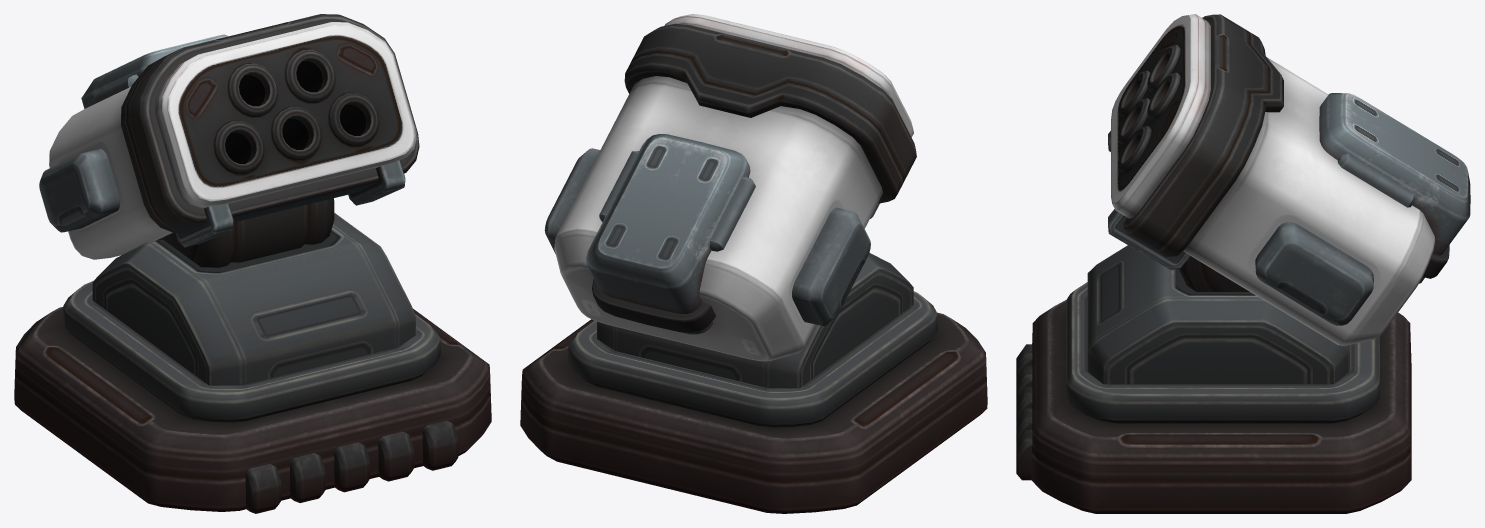
Rendered from lvl1.fbx.
The picture shows the model from 3 angles, left to right: view 1: azimuth 30°, elevation 25°; view 2: azimuth 150°, elevation 25°; view 3: azimuth 270°, elevation 25°; orthographic projection. The views are drawn at different scales.
Visible parts, largest first — view 1: lvl1_launcher_top, lvl1_launcher_mid, lvl1_launcher_bot; view 2: lvl1_launcher_top, lvl1_launcher_bot, lvl1_launcher_mid; view 3: lvl1_launcher_top, lvl1_launcher_bot, lvl1_launcher_mid.
Boxes of the visible parts, left/top/right/bottom form: lvl1_launcher_top: left=39, top=14, right=419, bottom=259; lvl1_launcher_mid: left=63, top=198, right=440, bottom=422; lvl1_launcher_bot: left=14, top=307, right=491, bottom=513; lvl1_launcher_top: left=544, top=14, right=916, bottom=361; lvl1_launcher_bot: left=520, top=312, right=987, bottom=513; lvl1_launcher_mid: left=568, top=253, right=937, bottom=427; lvl1_launcher_top: left=1108, top=14, right=1470, bottom=345; lvl1_launcher_bot: left=1016, top=300, right=1411, bottom=513; lvl1_launcher_mid: left=1066, top=245, right=1379, bottom=423.
Bounding box in the file's own units: 197 × 210 × 226.
